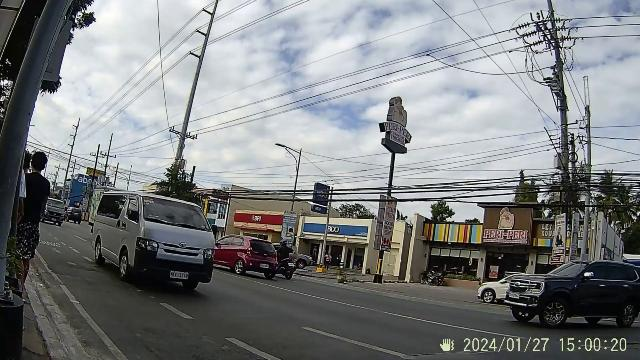lamp_post: (273, 141, 305, 203)
utility_post: (510, 7, 584, 265)
